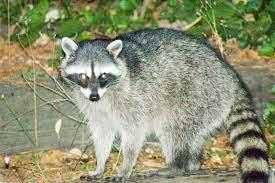raccoon: (40, 10, 275, 183)
